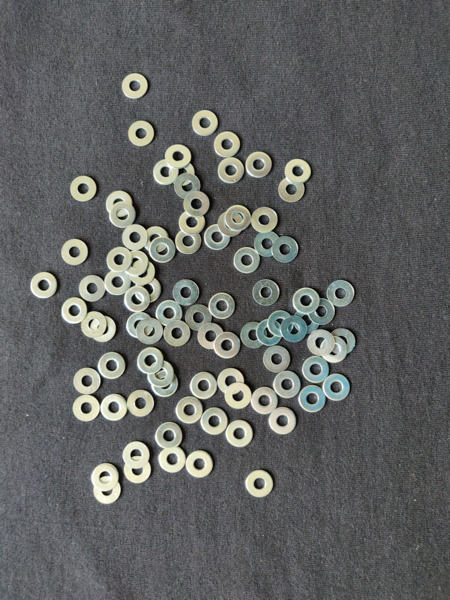circle: (120, 70, 150, 101), (326, 277, 357, 307), (245, 470, 277, 499), (127, 389, 157, 419), (100, 394, 129, 425), (209, 292, 238, 323), (69, 175, 99, 204), (269, 407, 298, 437), (251, 386, 281, 415), (93, 477, 124, 505), (30, 271, 59, 300), (98, 351, 127, 380), (272, 371, 301, 400), (201, 408, 230, 437), (159, 447, 188, 476), (59, 297, 89, 325), (213, 130, 243, 158), (246, 151, 274, 181), (216, 368, 246, 396), (189, 370, 217, 400), (276, 178, 307, 205), (103, 191, 135, 217), (185, 304, 214, 332), (214, 332, 243, 360), (252, 279, 281, 307), (292, 287, 321, 315), (292, 305, 320, 334), (226, 420, 255, 448), (91, 464, 120, 492), (329, 326, 356, 356), (301, 356, 331, 383), (297, 386, 328, 412), (72, 395, 100, 423), (152, 158, 180, 186), (136, 317, 164, 345), (164, 320, 192, 348), (254, 231, 282, 259), (265, 346, 293, 374), (225, 382, 253, 410), (175, 397, 203, 425), (218, 158, 245, 187), (148, 236, 177, 263), (172, 280, 201, 307), (234, 247, 261, 276), (239, 322, 266, 351), (323, 374, 350, 403), (154, 422, 183, 449), (250, 207, 280, 233), (109, 202, 137, 229), (78, 275, 106, 302), (91, 316, 118, 344), (191, 109, 218, 137), (168, 161, 196, 188), (174, 172, 201, 200), (175, 228, 202, 256), (122, 224, 149, 252), (126, 313, 154, 340), (136, 347, 163, 375), (186, 451, 213, 479), (121, 441, 149, 468), (124, 457, 152, 484), (61, 239, 90, 265), (81, 311, 107, 340), (284, 159, 313, 185), (155, 301, 184, 327), (321, 336, 347, 365), (150, 372, 179, 398), (146, 362, 176, 387), (104, 269, 131, 296), (204, 225, 231, 252), (273, 236, 300, 263), (128, 119, 154, 147), (76, 368, 102, 396), (106, 246, 134, 272), (226, 204, 252, 232), (307, 330, 335, 356), (184, 191, 210, 218), (124, 287, 151, 313), (198, 324, 225, 350), (309, 299, 336, 325), (282, 317, 308, 344), (256, 320, 282, 347), (217, 211, 245, 236), (136, 277, 161, 304), (178, 211, 207, 234), (144, 227, 169, 253), (124, 251, 150, 276), (269, 310, 293, 337), (166, 145, 193, 168), (129, 263, 156, 285)
